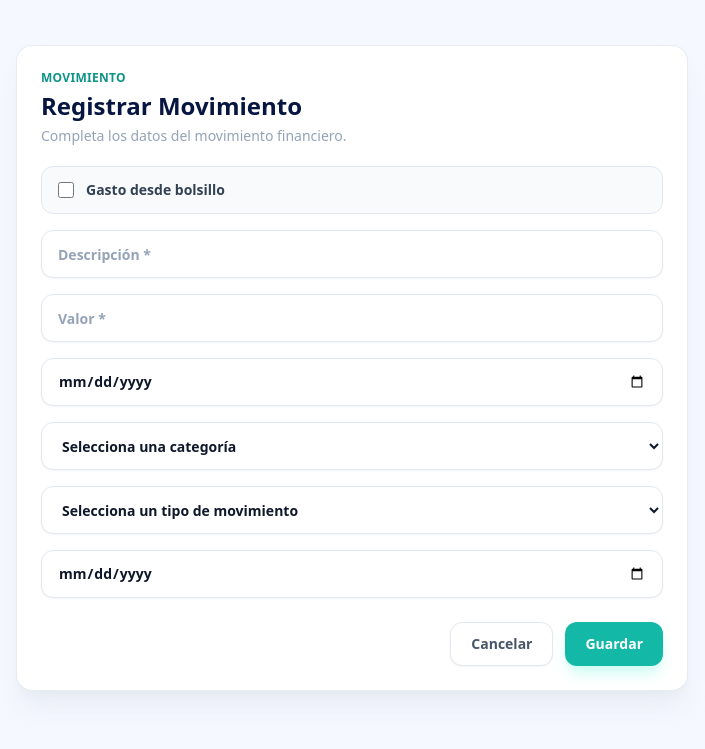
it: GastosForm › muestra error si faltan campos obligatorios
Click the button "Guardar". click: (614, 644)
box: [566,622,663,666]
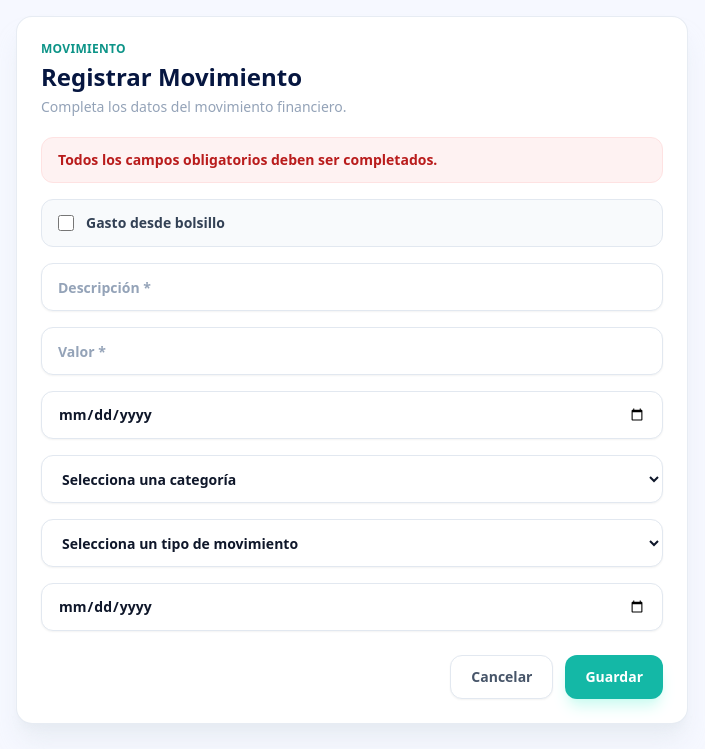
Check: the text "Todos los campos obligatorios deben ser completados." is shown, box [41,137,663,183]
